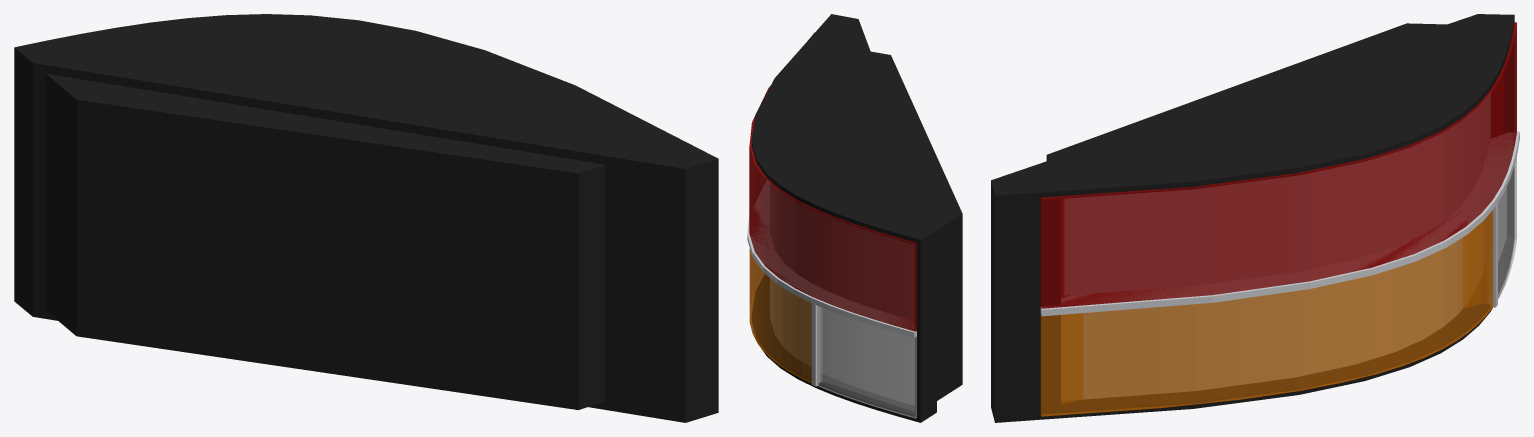
The model's file is lanterna_traseira.glb.
The picture shows the model from 3 angles, left to right: view 1: azimuth 30°, elevation 25°; view 2: azimuth 150°, elevation 25°; view 3: azimuth 270°, elevation 25°; orthographic projection. The views are drawn at different scales.
Parts seen in each view (by area): view 1: lanterna_traseira_plastico_preto; view 2: lanterna_traseira_plastico_preto, lanterna_traseira_refletor, lanterna_traseira_lente_lanterna, lanterna_traseira_lente_re, lanterna_traseira_lente_pisca, lanterna_traseira_cromado; view 3: lanterna_traseira_refletor, lanterna_traseira_plastico_preto, lanterna_traseira_lente_lanterna, lanterna_traseira_lente_pisca, lanterna_traseira_cromado, lanterna_traseira_lente_re.
Boxes of the visible parts, <box> form: lanterna_traseira_plastico_preto: <box>14,14,718,422</box>; lanterna_traseira_plastico_preto: <box>751,14,962,422</box>; lanterna_traseira_refletor: <box>770,183,914,405</box>; lanterna_traseira_lente_lanterna: <box>749,32,916,331</box>; lanterna_traseira_lente_re: <box>817,306,916,418</box>; lanterna_traseira_lente_pisca: <box>749,248,811,383</box>; lanterna_traseira_cromado: <box>747,180,916,386</box>; lanterna_traseira_refletor: <box>1064,93,1490,398</box>; lanterna_traseira_plastico_preto: <box>991,14,1514,422</box>; lanterna_traseira_lente_lanterna: <box>1040,22,1516,308</box>; lanterna_traseira_lente_pisca: <box>1040,210,1493,416</box>; lanterna_traseira_cromado: <box>1040,131,1519,316</box>; lanterna_traseira_lente_re: <box>1498,156,1516,299</box>.
Size of the model in its own units: 0.3036 by 0.177 by 0.3734.
